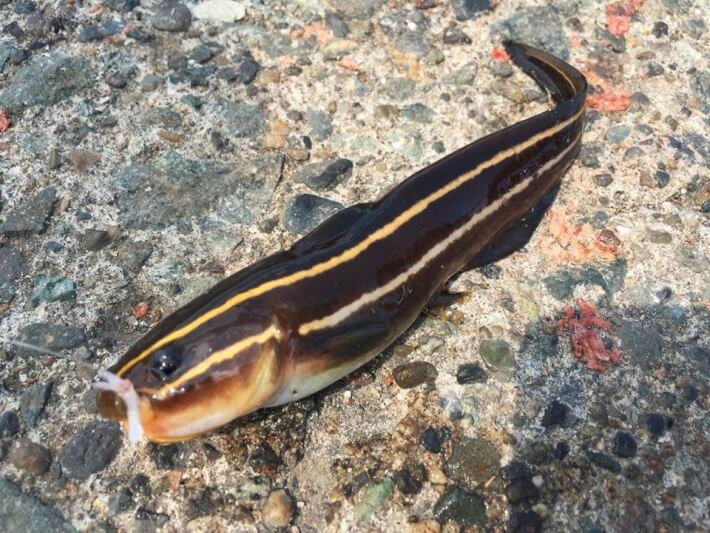gonzui: (73, 28, 626, 460)
